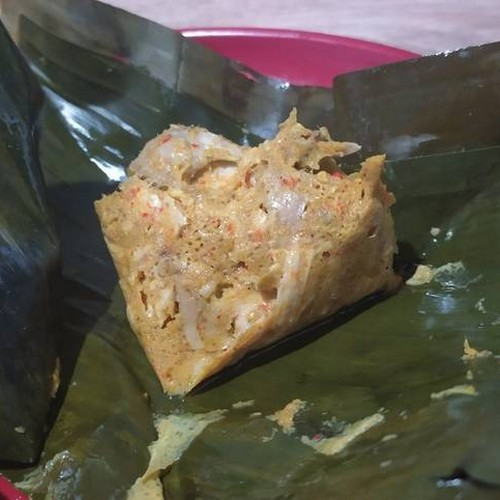tum ayam: (91, 109, 407, 403)
